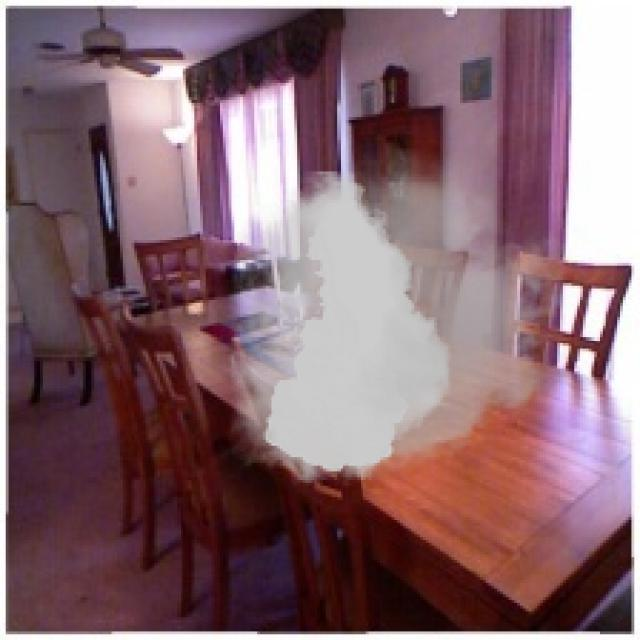Smoke: (200, 148, 589, 494)
